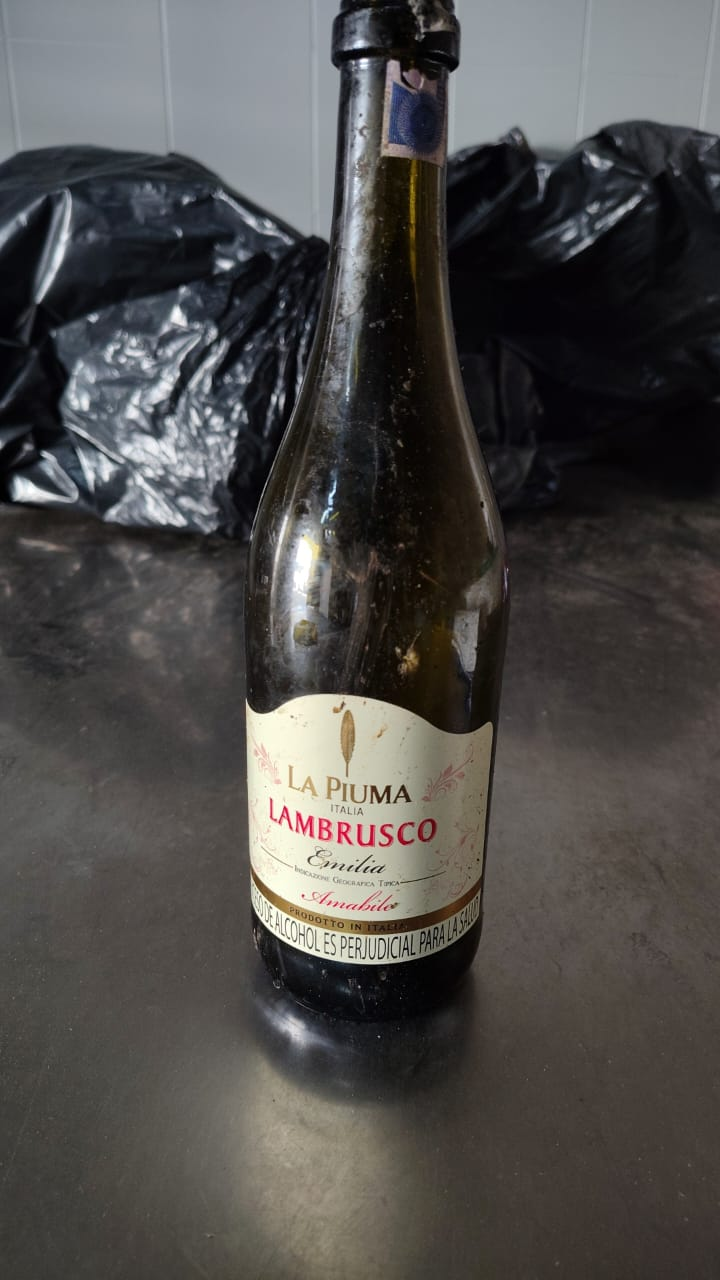Vidrio: (241, 0, 511, 1028)
